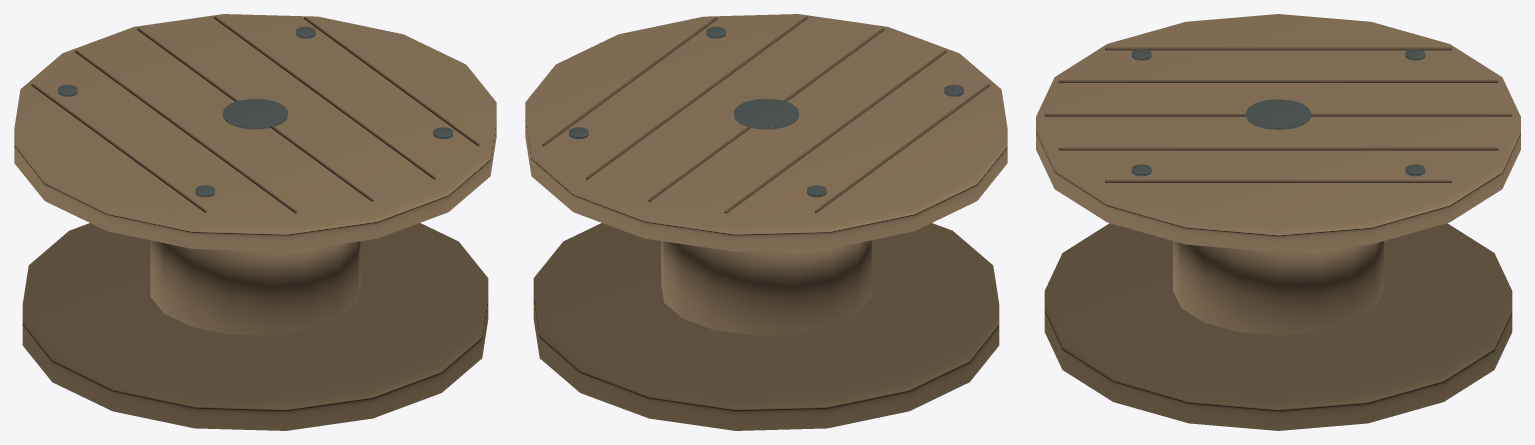
File: SpoolTable02.fbx
The picture shows the model from 3 angles, left to right: view 1: azimuth 30°, elevation 25°; view 2: azimuth 150°, elevation 25°; view 3: azimuth 270°, elevation 25°; orthographic projection.
Parts seen in each view (by area): view 1: SpoolTable02; view 2: SpoolTable02; view 3: SpoolTable02.
Part boxes in pixels (x1=…): SpoolTable02: x1=14, y1=14, x2=496, y2=430; SpoolTable02: x1=525, y1=14, x2=1007, y2=430; SpoolTable02: x1=1036, y1=14, x2=1520, y2=430.
Bounding box in the file's own units: 170 × 85.7 × 170.
